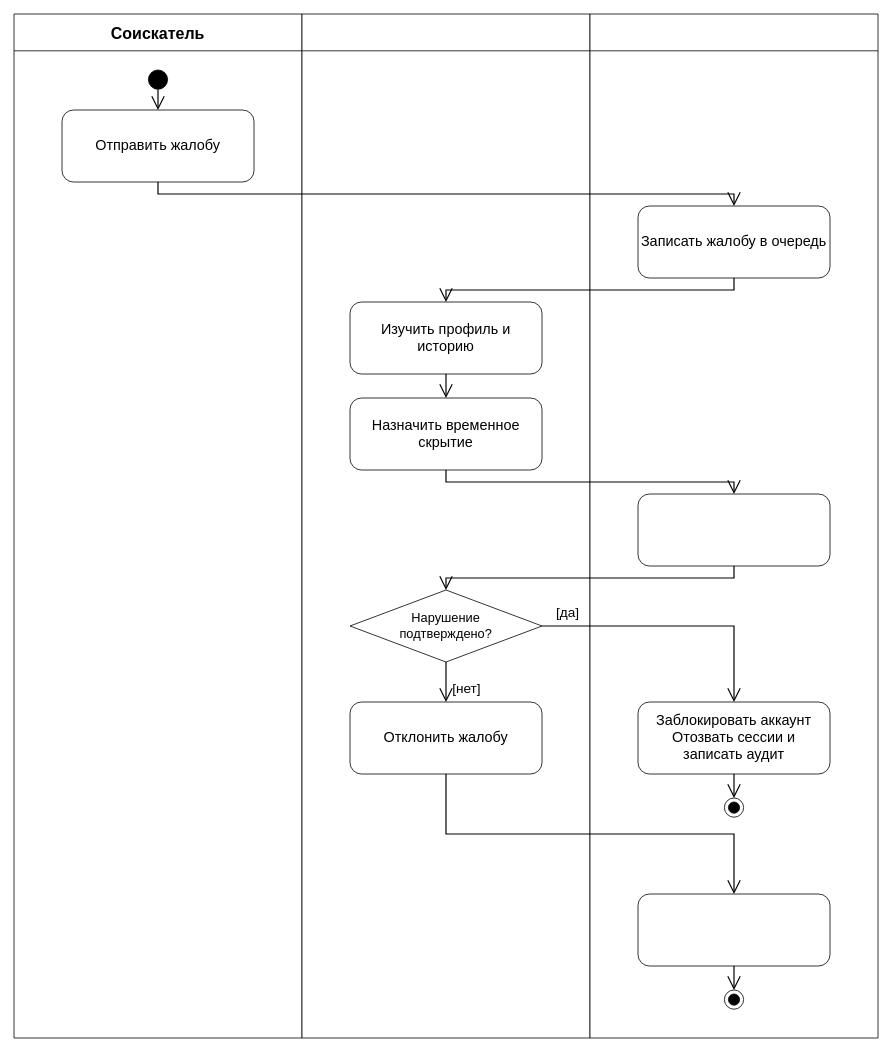
This 892x1052 diagram has some shape labels left out. The box of each missing label's shape, as (x1, y1, x2, y2) in pixels:
Администратор: (301, 13, 590, 1038)
Система ROOMIE: (589, 13, 878, 1038)
Скрыть до 3 рабочих дней Зафиксировать аудит: (637, 493, 830, 566)
Снять скрытие жалобы Учесть другие ограничения Записать аудит: (637, 893, 830, 966)
